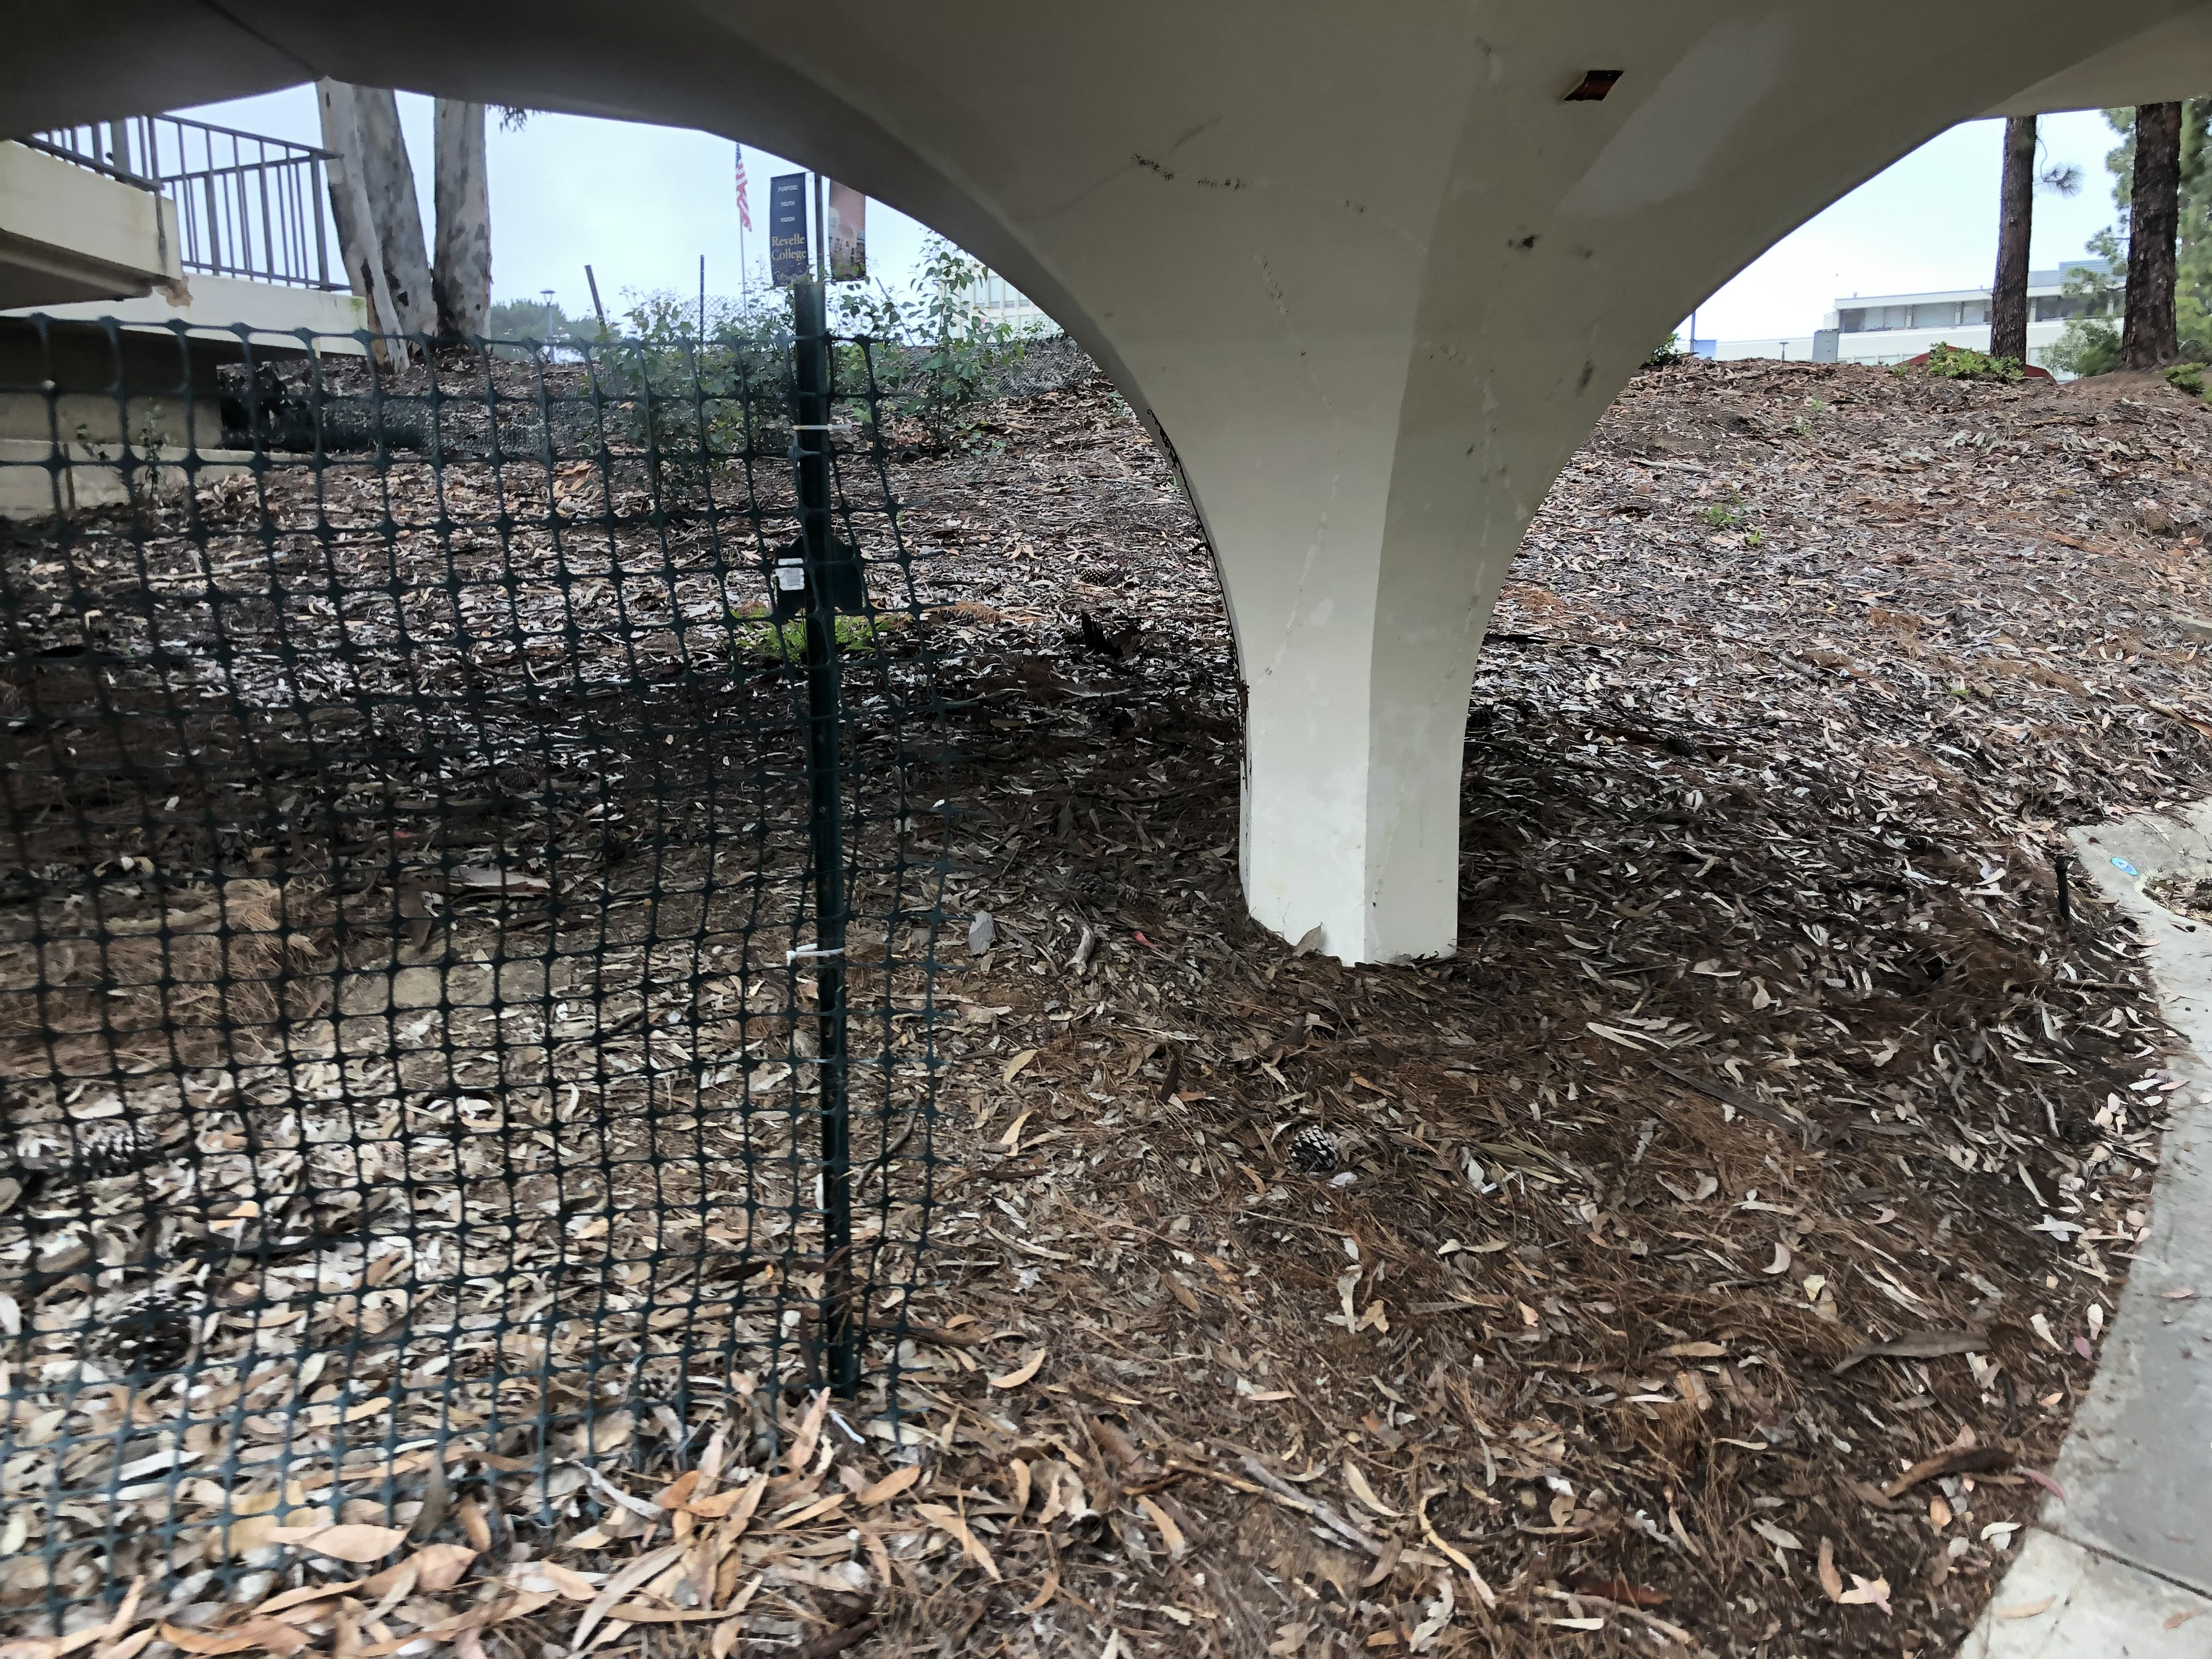Edge: (1977, 798, 2179, 1633)
Obstacle: (19, 432, 873, 1457), (9, 12, 1191, 420), (1184, 23, 1486, 953), (1496, 38, 2193, 432)
